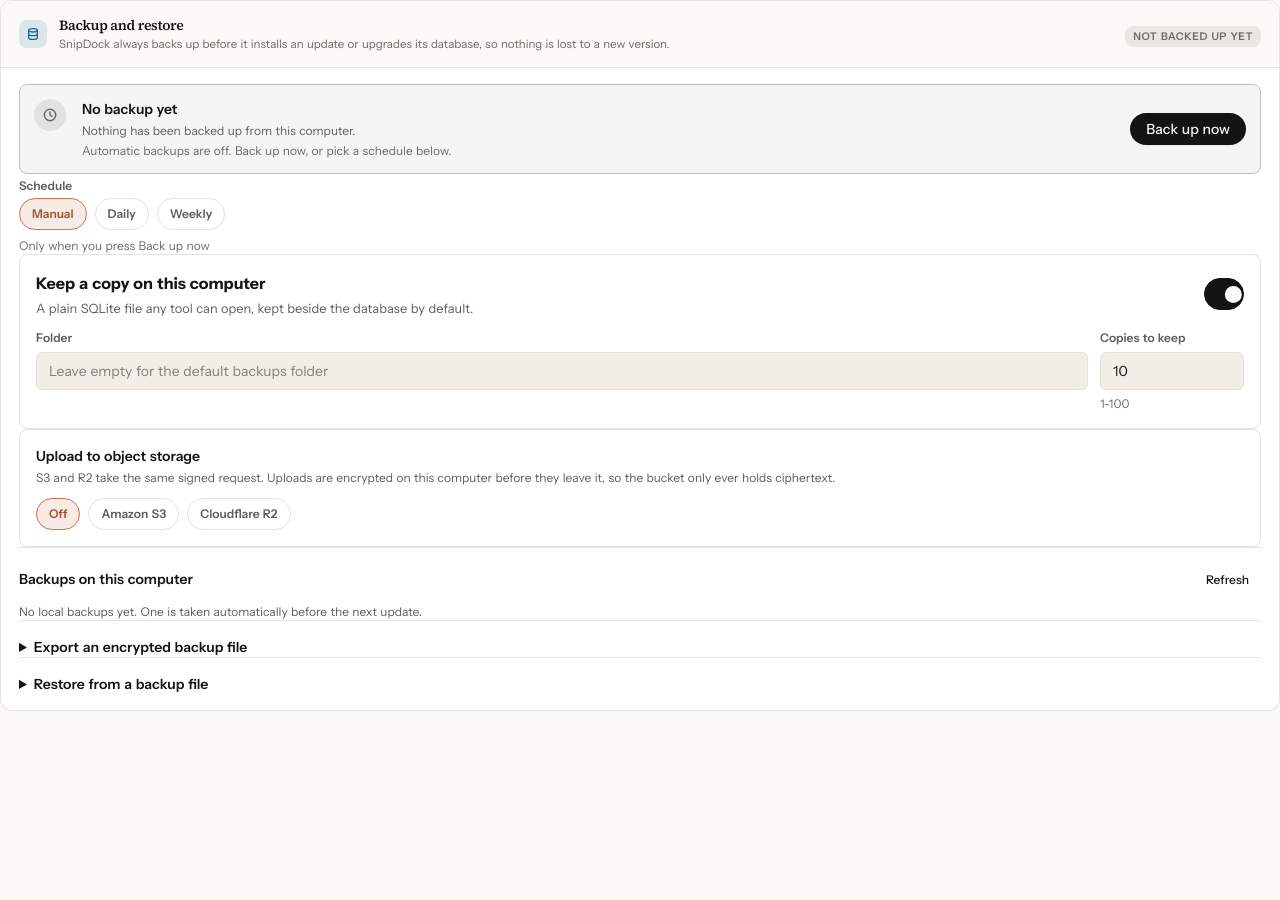
Test case: BackupPanel › a failed run shows its reason in the status at once
Click the button "Back up now": (1188, 129) [1130,113,1246,145]
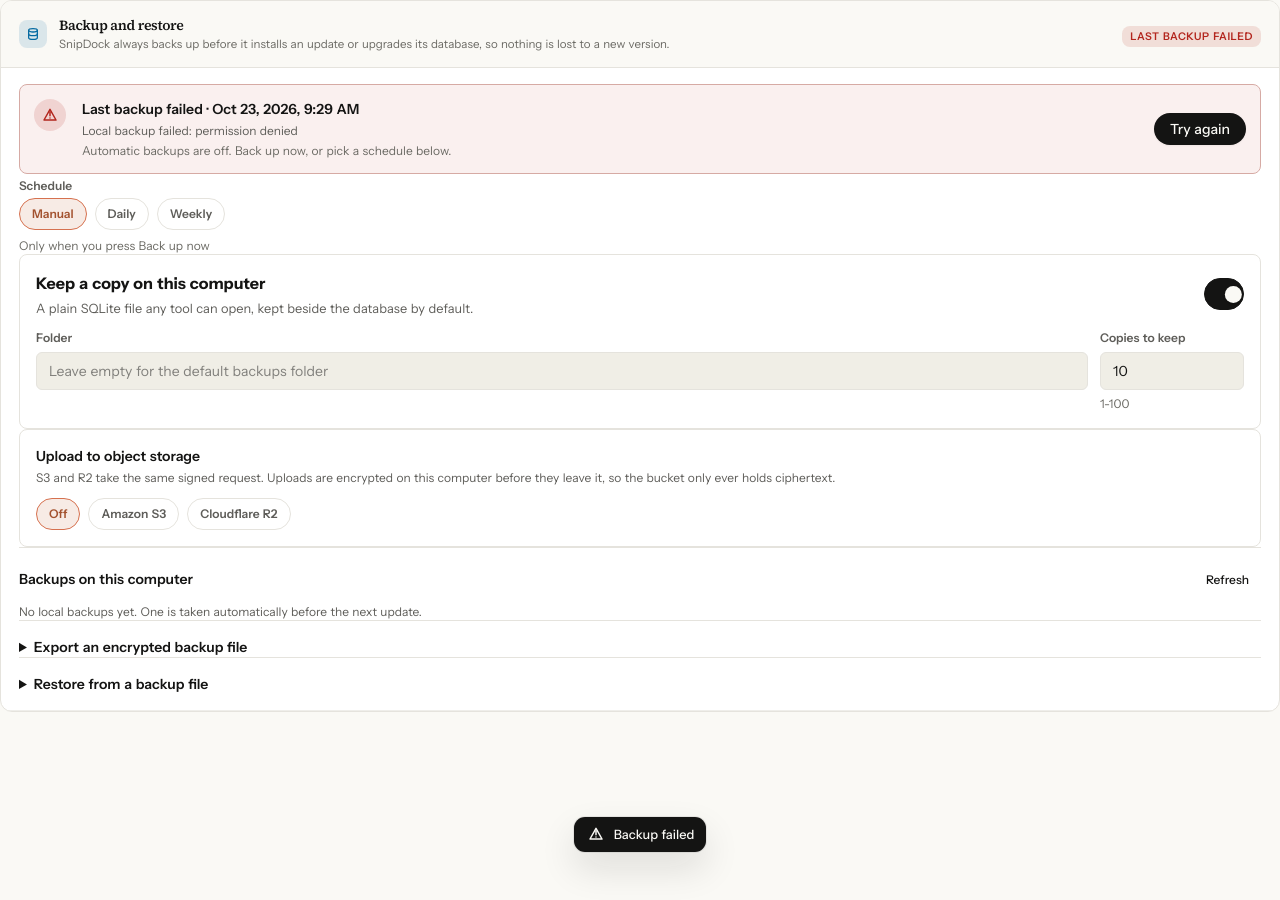
Expected: the text "Last backup failed" is shown, [1122,26,1261,47]
Expected: the element with test id "backup-status" shows "Local backup failed: permission denied", [82,123,298,138]
Expected: the message reads "Backup failed", [614,827,694,842]
